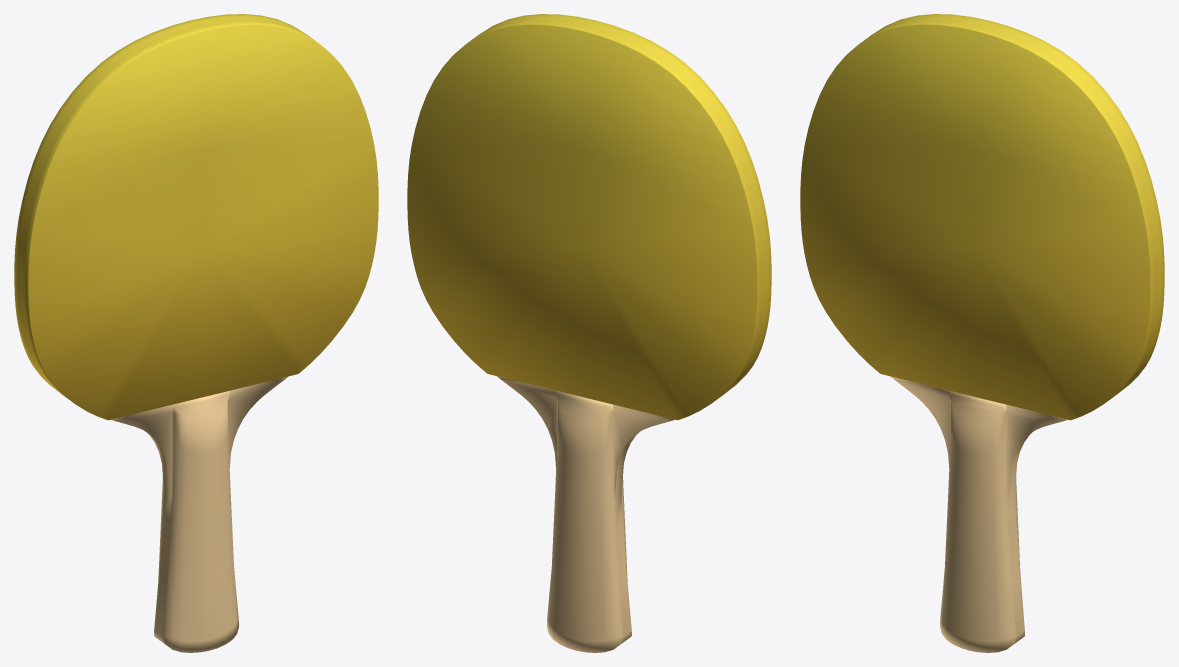
File: _PingPongMasters_yellowpaddle.fbx
3 renders of one model, left to right at view 1: azimuth 30°, elevation 25°; view 2: azimuth 150°, elevation 25°; view 3: azimuth 330°, elevation 25°, orthographic.
Parts seen in each view (by area): view 1: yellowpaddle; view 2: yellowpaddle; view 3: yellowpaddle.
Part boxes in pixels (x1=…): yellowpaddle: x1=14, y1=14, x2=378, y2=652; yellowpaddle: x1=407, y1=14, x2=771, y2=652; yellowpaddle: x1=800, y1=14, x2=1164, y2=652.
Size of the model in its own units: 0.0741 by 0.0101 by 0.1242.
Materials: 2 (1 with a texture image).
